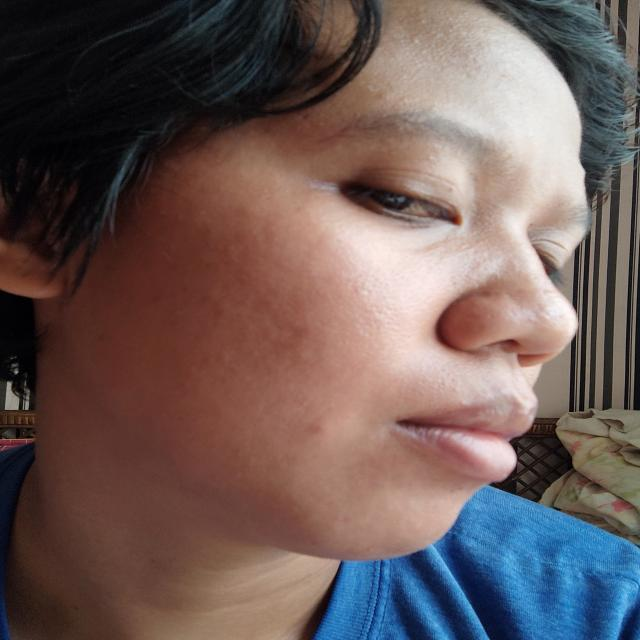Acne: (303, 421, 333, 442)
Englarged-Pores: (503, 282, 550, 327)
